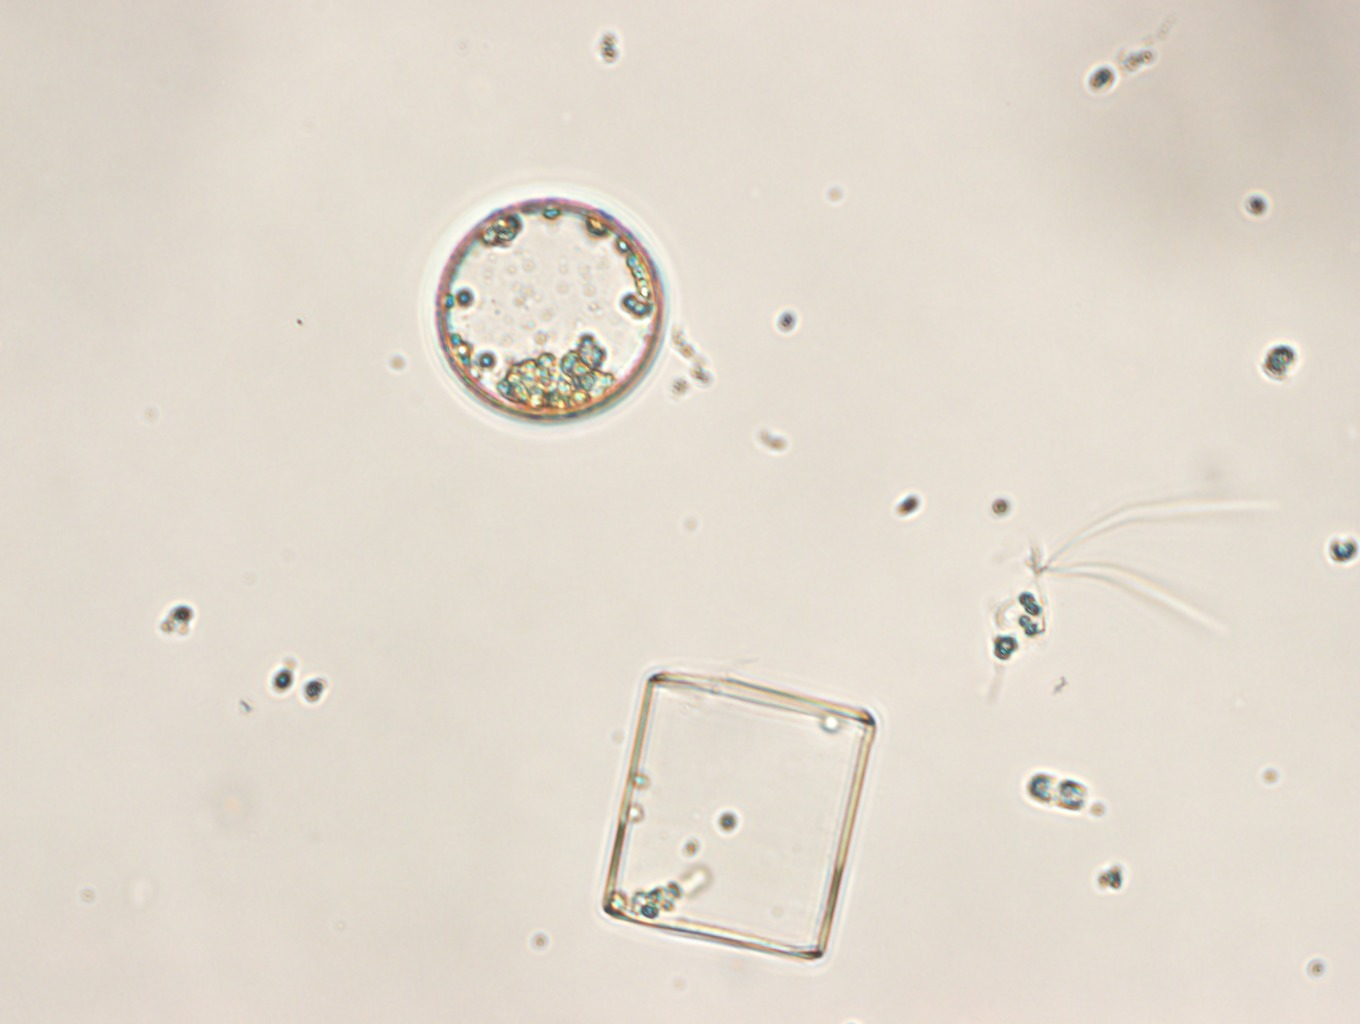coscinodiscus: (434, 197, 665, 422)
guinardia flaccida: (600, 673, 877, 959)
